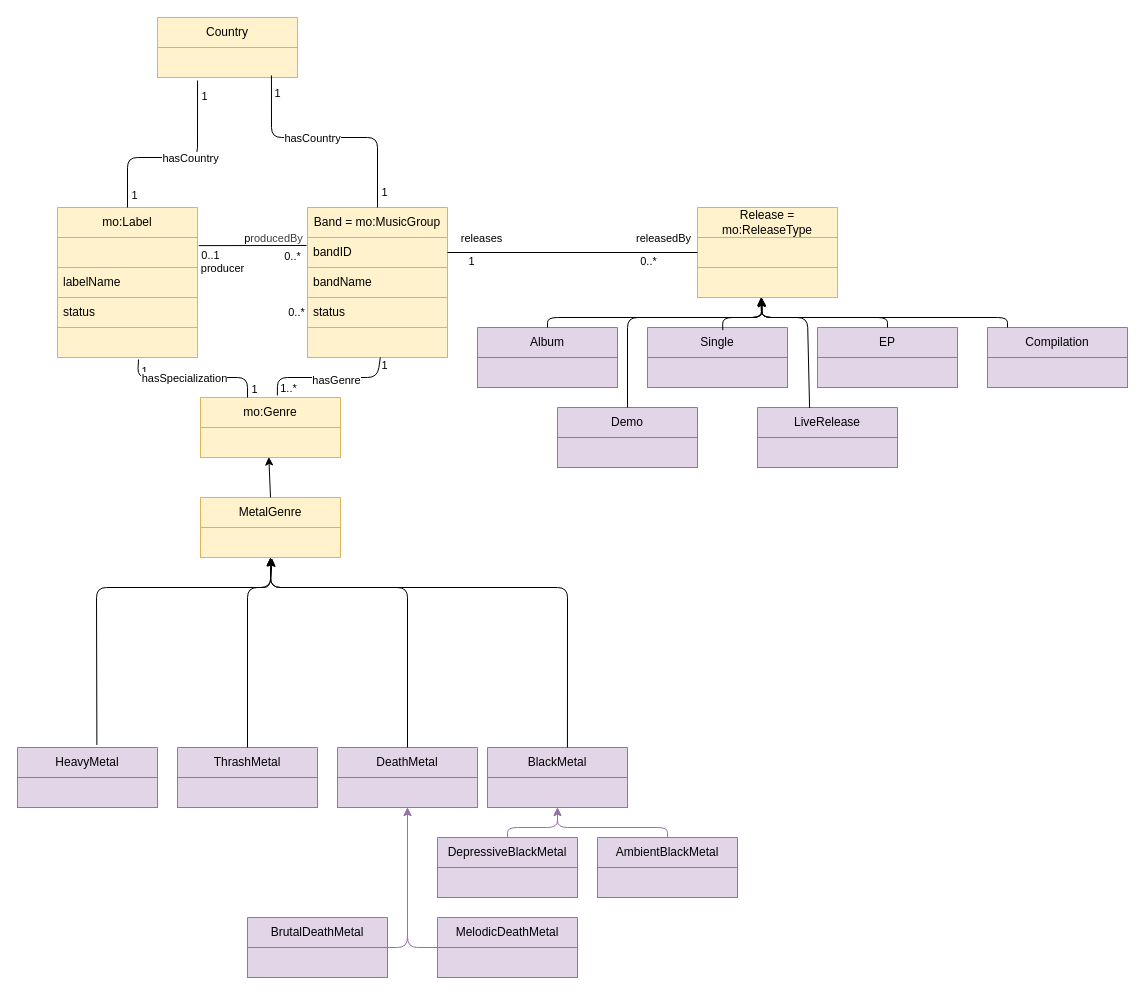
Image size: 1145x995. Some labels were removed from this diagram. Here are the shapes that lost their labels. From the top down, the centre of each, then its label:
the point at 227,62: name
the point at 127,252: labelID
the point at 767,252: releaseTitle
the point at 767,282: releaseYear
the point at 127,342: websiteURL
the point at 377,342: metalArchiveURL
